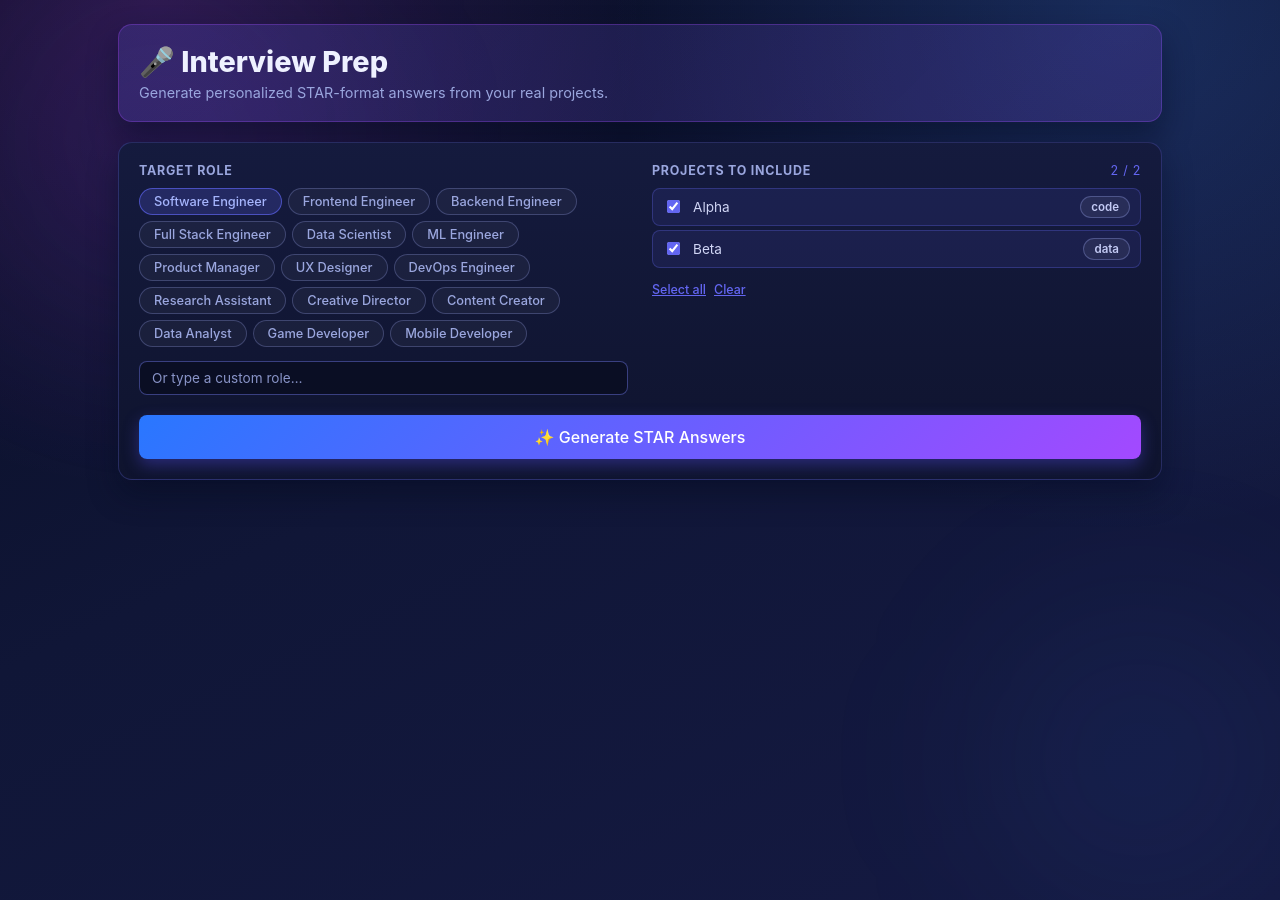
Interview - generating answers › shows answers after generation
Expected: the text "Alpha" is shown, [693,198,730,214]
// Wait for projects to load first so selectedIds is populated
Click the button "✨ Generate STAR Answers" at (640, 436), box [139,414,1141,458]
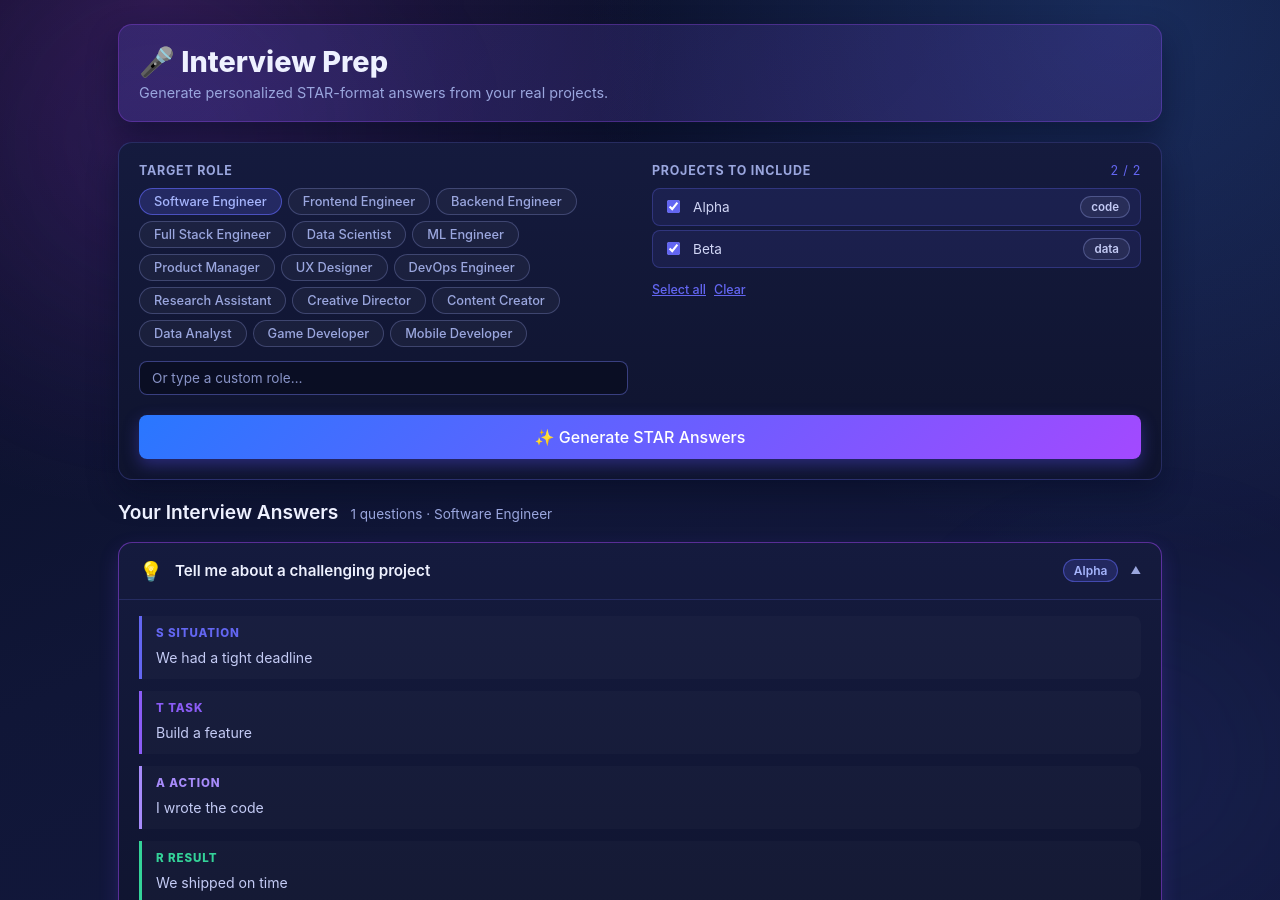
Now the text "Tell me about a challenging project" is shown, box [175,561,430,580]
